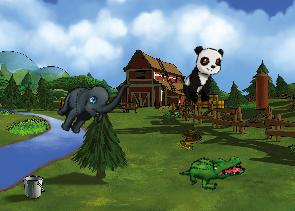crocodile: (178, 140, 247, 201)
elephant: (51, 61, 131, 148)
panda: (179, 42, 226, 108)
